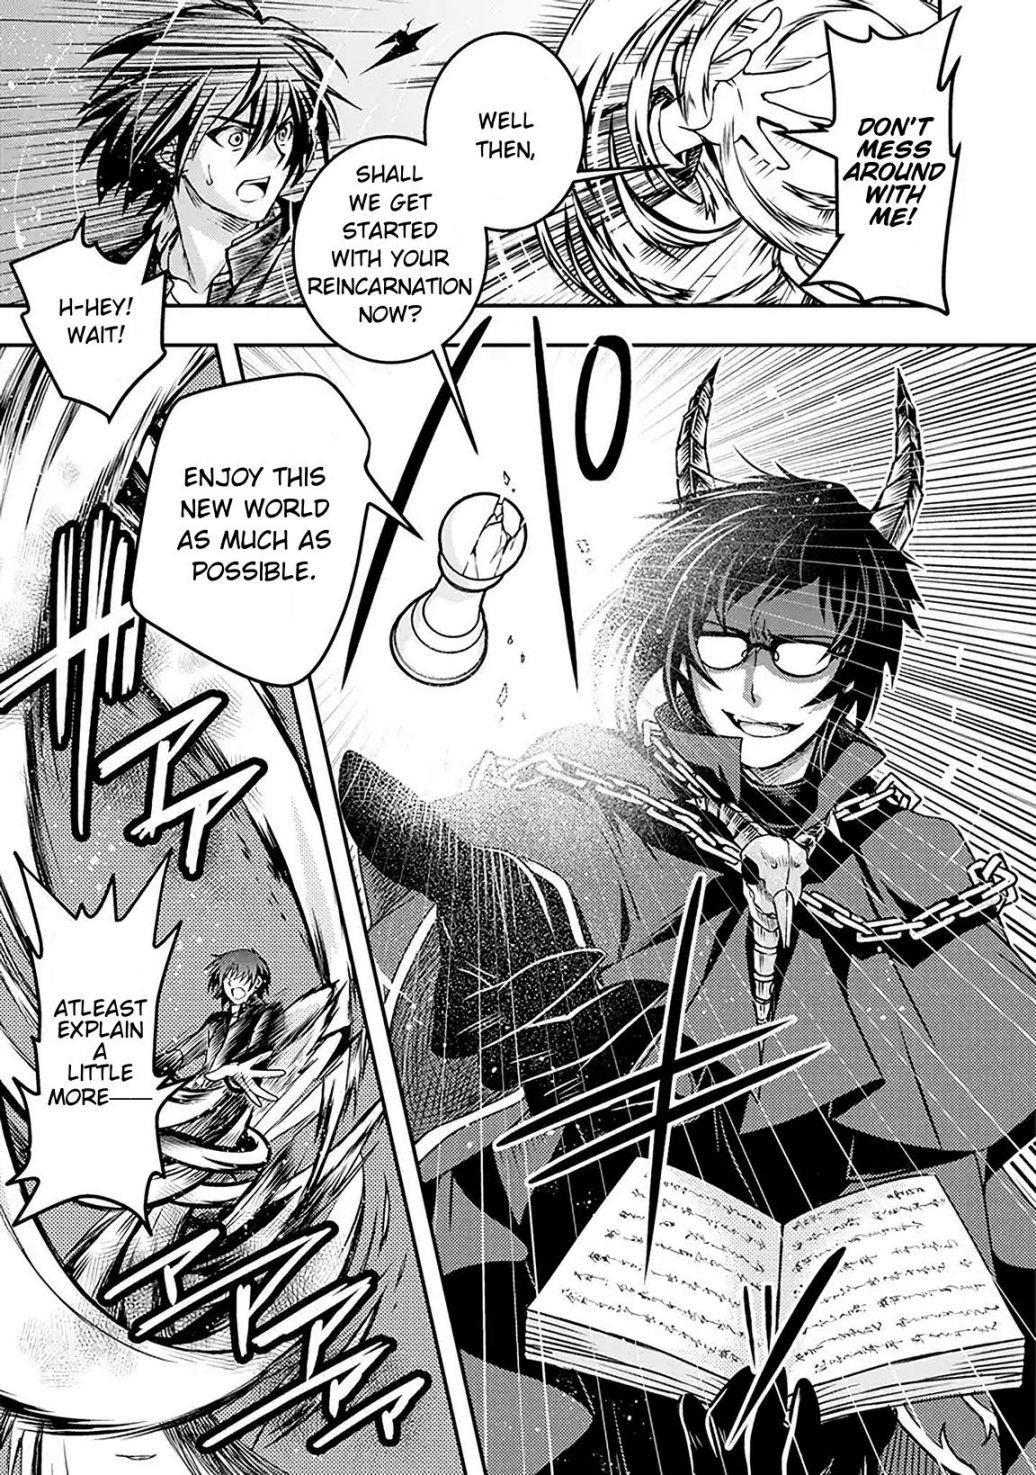Bubble: (129, 372, 377, 690), (6, 848, 196, 1239), (770, 7, 965, 317), (290, 134, 473, 365), (6, 205, 168, 370), (475, 29, 588, 233)
